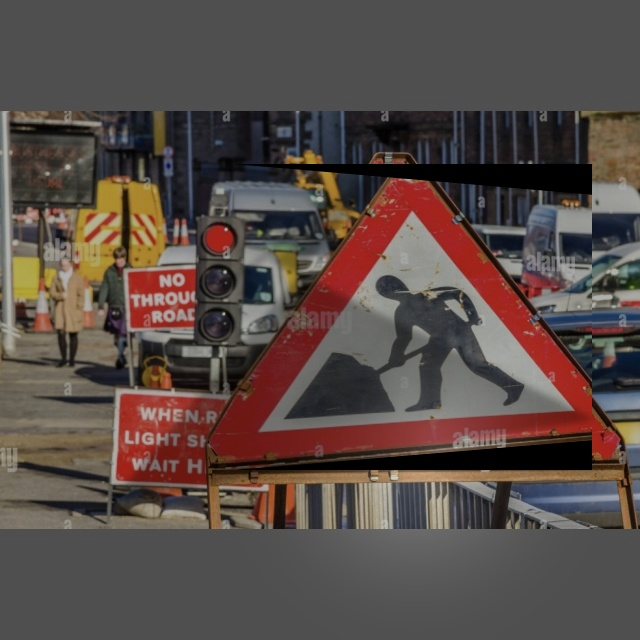Men_at_Work: (233, 164, 592, 470)
